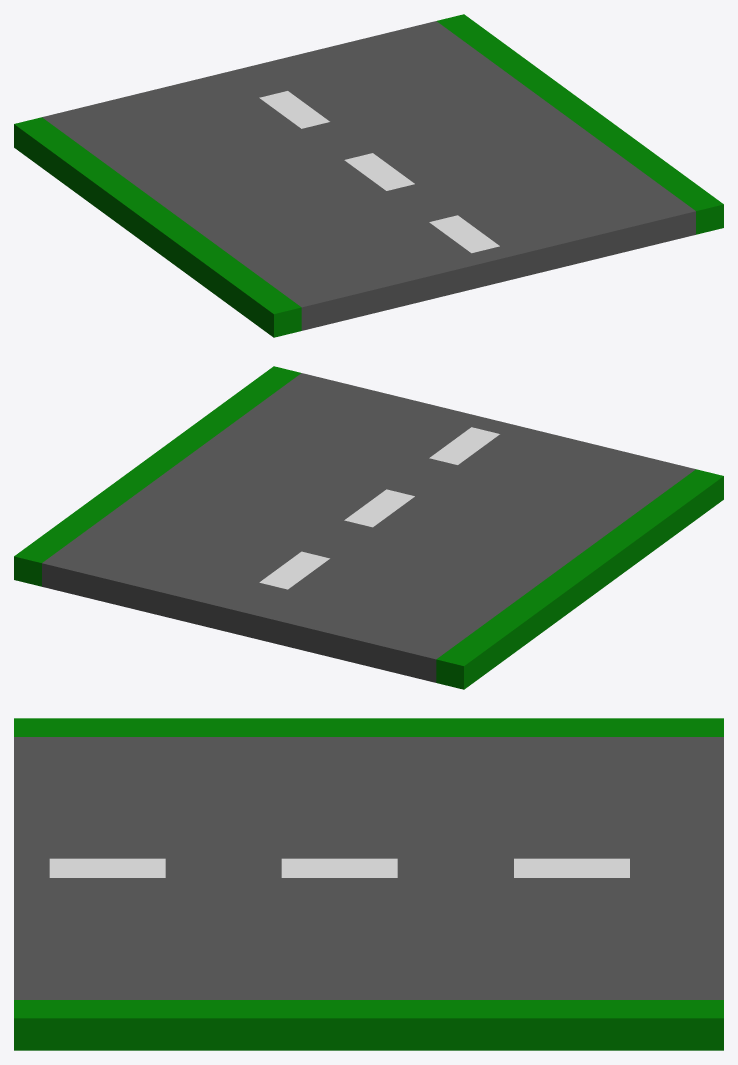
Rendered from RoadPrefab.fbx.
3 views of the same model, one above another, from view 1: azimuth 30°, elevation 25°; view 2: azimuth 150°, elevation 25°; view 3: azimuth 270°, elevation 25° (orthographic). The views are drawn at different scales.
Parts seen in each view (by area): view 1: pCube1; view 2: pCube1; view 3: pCube1.
Boxes of the visible parts, <box> form: pCube1: <box>14,14,723,337</box>; pCube1: <box>14,366,723,689</box>; pCube1: <box>14,718,723,1050</box>.
Size of the model in its own units: 20 by 1 by 20.
